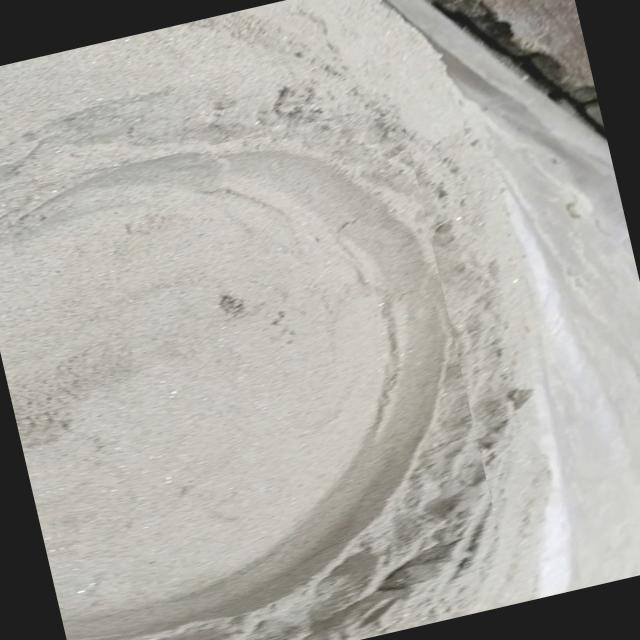C40: (3, 154, 451, 640)
